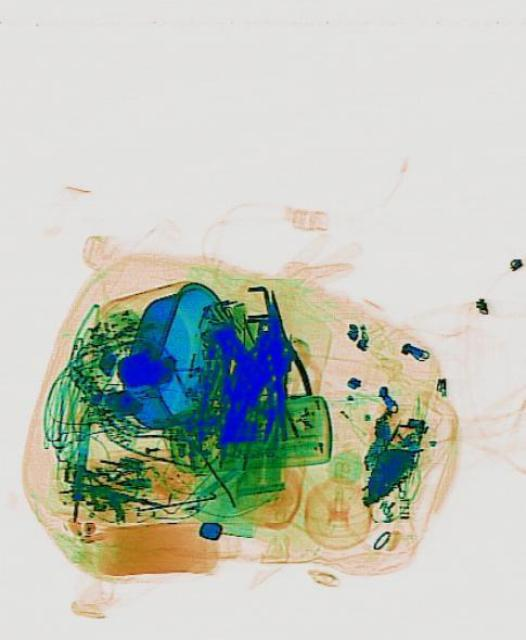Pliers: (249, 285, 309, 403)
